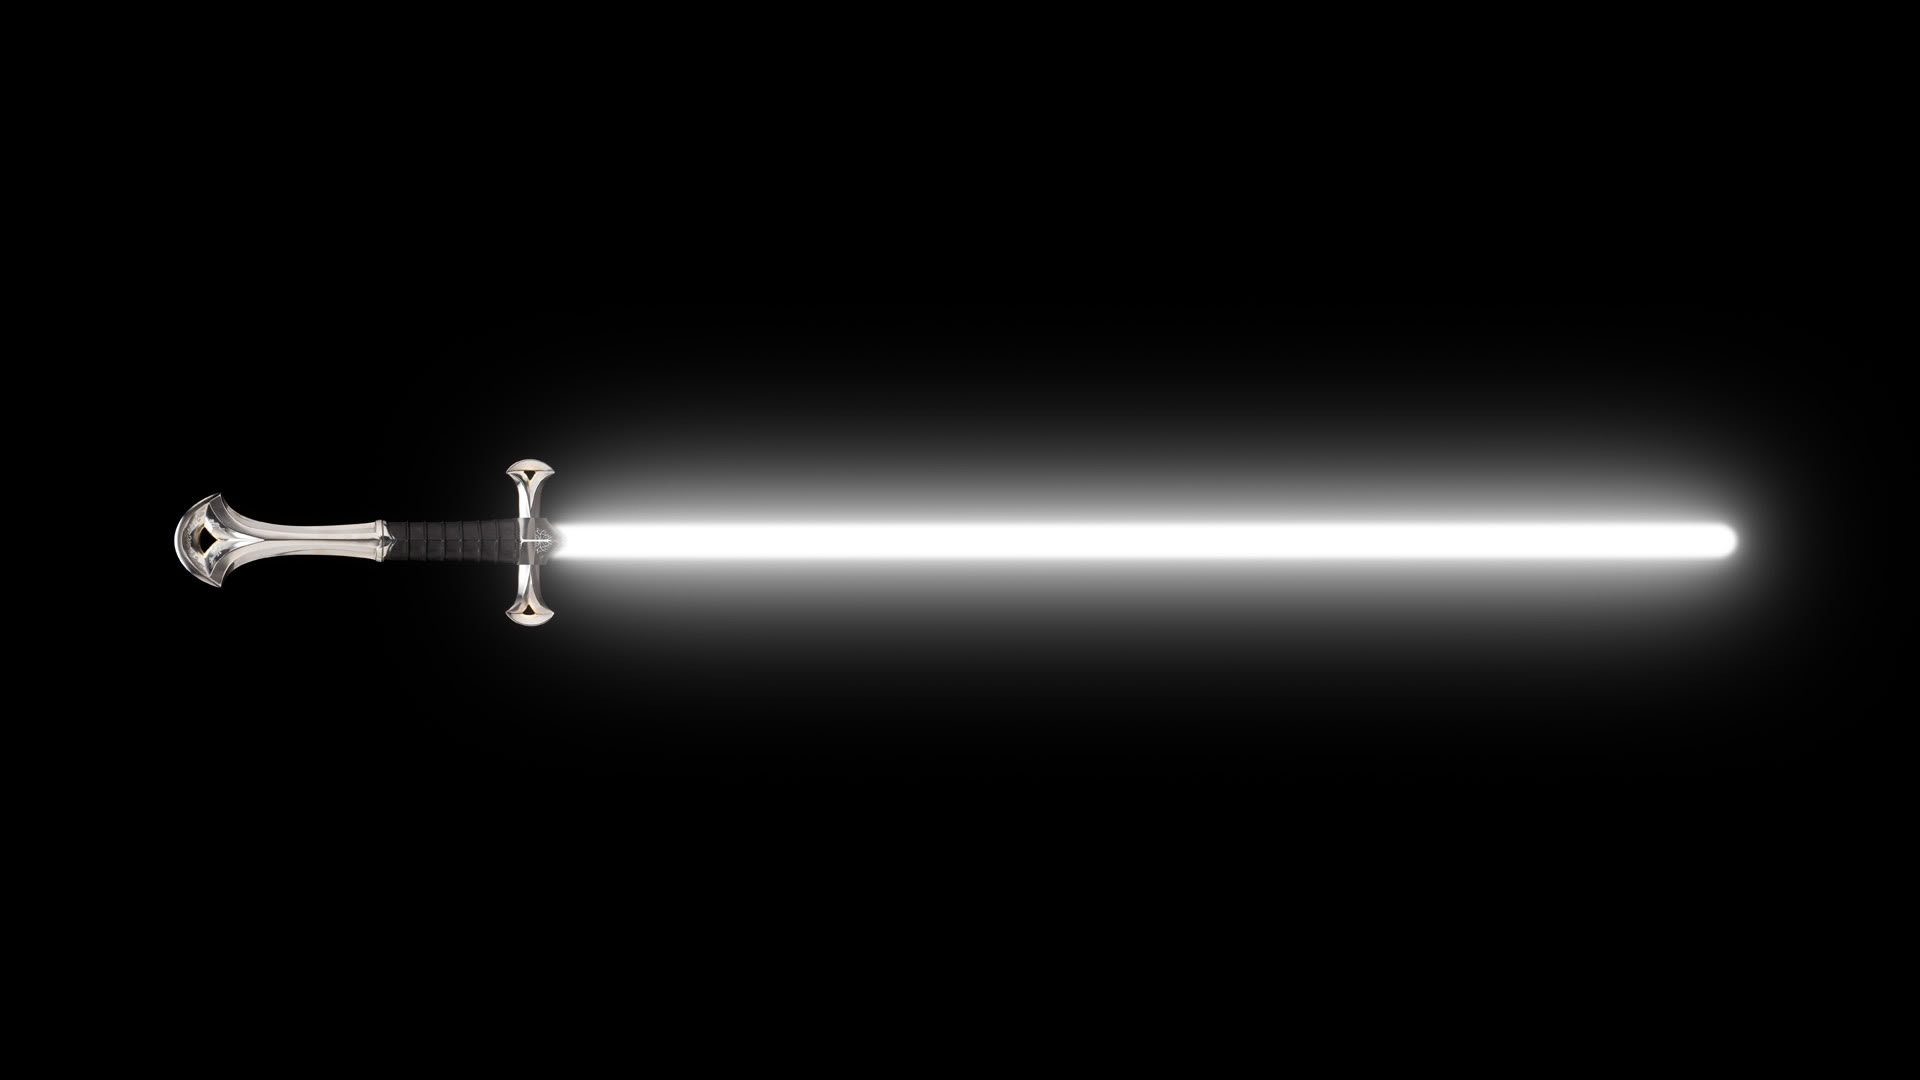lightsaber: (105, 413, 1863, 723)
